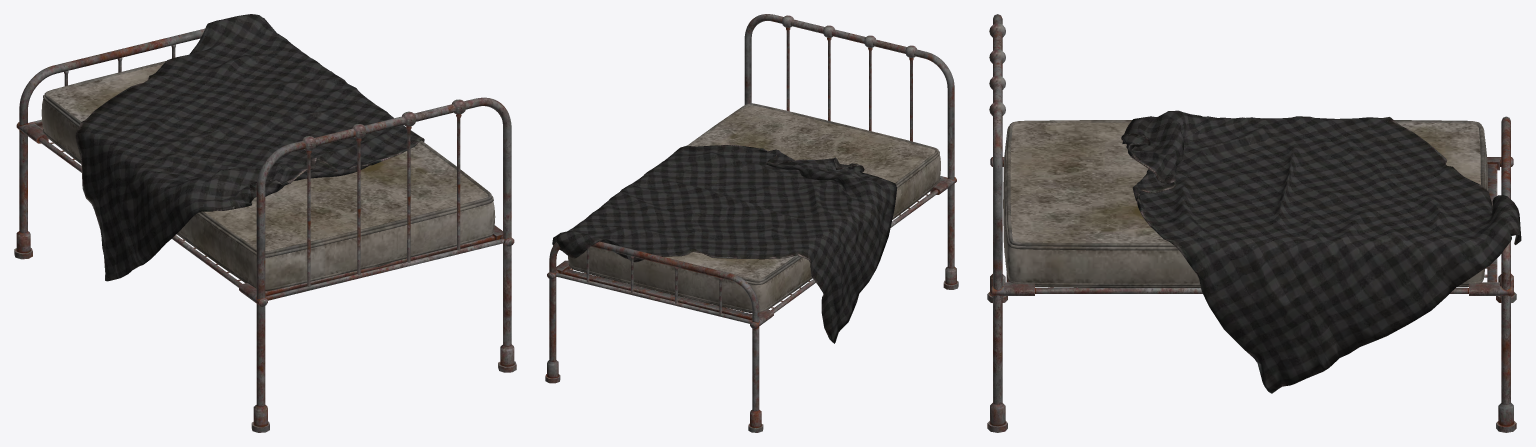
File: old_hospital_bed_pbr_gr.glb
The picture shows the model from 3 angles, left to right: view 1: azimuth 30°, elevation 25°; view 2: azimuth 150°, elevation 25°; view 3: azimuth 270°, elevation 25°; orthographic projection. The views are drawn at different scales.
Visible parts, largest first — view 1: blanket, mattress, bed; view 2: blanket, mattress, bed; view 3: blanket, mattress, bed.
Boxes of the visible parts, bbox=[...] form: blanket: bbox=[75, 14, 424, 281]; mattress: bbox=[41, 61, 495, 291]; bed: bbox=[14, 28, 516, 432]; blanket: bbox=[552, 145, 897, 343]; mattress: bbox=[568, 103, 940, 313]; bed: bbox=[545, 14, 958, 432]; blanket: bbox=[1121, 110, 1521, 393]; mattress: bbox=[1003, 120, 1487, 287]; bed: bbox=[987, 14, 1516, 432].
Size of the model in its own units: 133 by 130 by 210.
3 materials, 3 textured.
